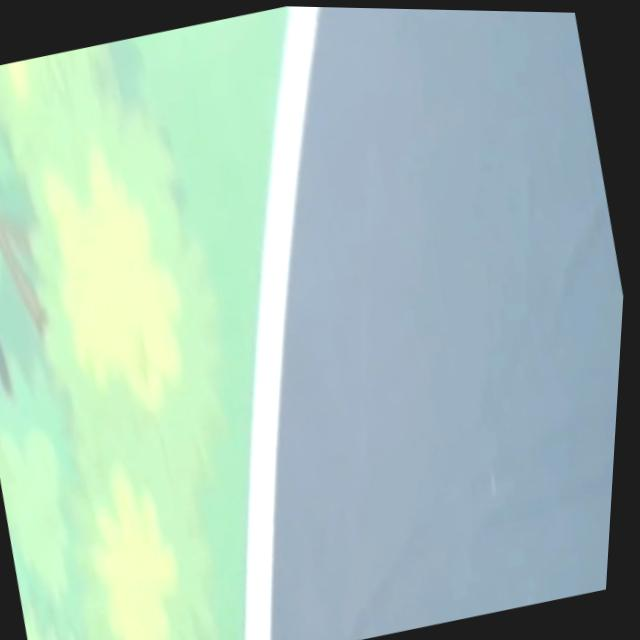right: (247, 6, 320, 640)
